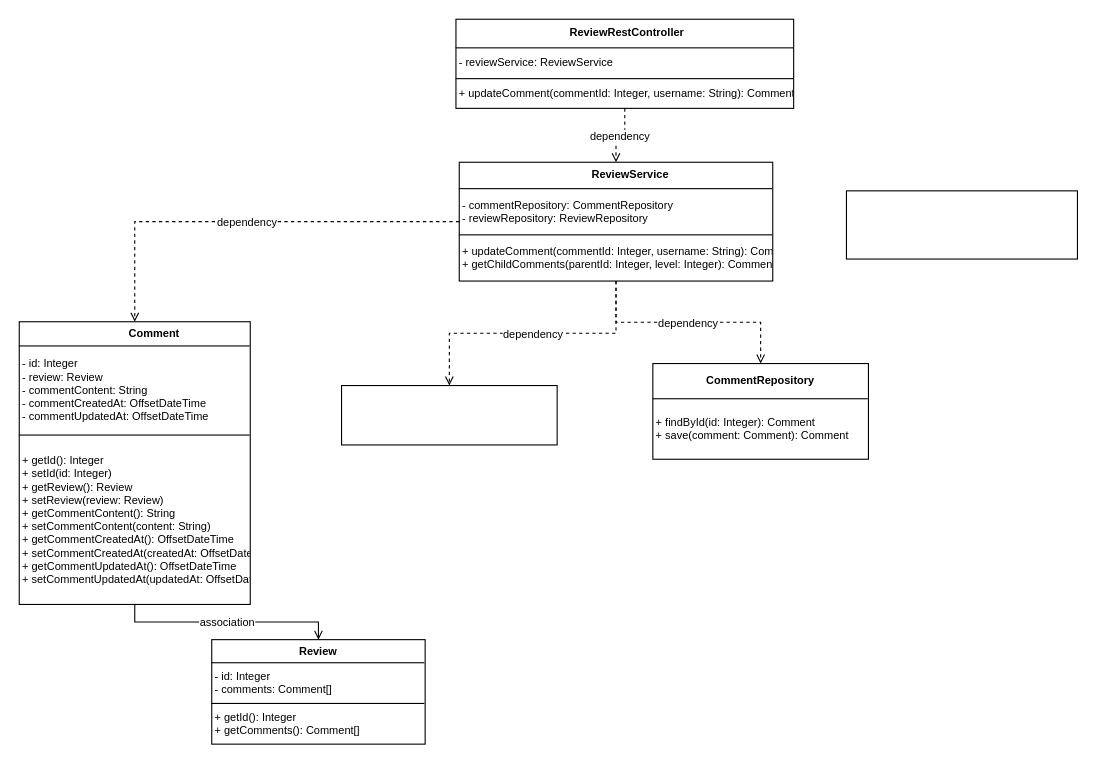
The diagram is 1097 pixels wide and 763 high, and some of its shapes have lost their labels. The shapes that lost their labels are listed below. From the top down, each one's centre as x and y in pixels, then its label:
the point at 961,224: CommentRepository + save(comment: Comment): Comment
the point at 448,414: ReviewRepository + findChildComments(commentId: Integer): Comment[]
